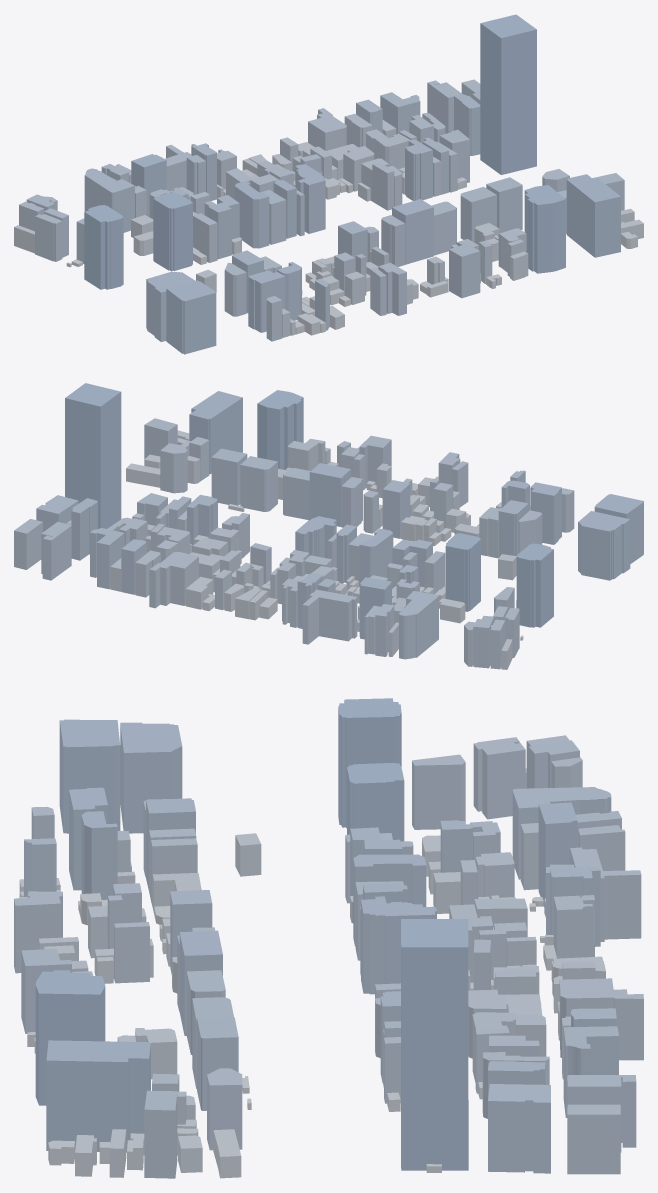
3 views of the same model, one above another, from view 1: azimuth 30°, elevation 25°; view 2: azimuth 150°, elevation 25°; view 3: azimuth 270°, elevation 25° (orthographic). The views are drawn at different scales.
Size of the model in its own units: 496 by 134 by 343.
